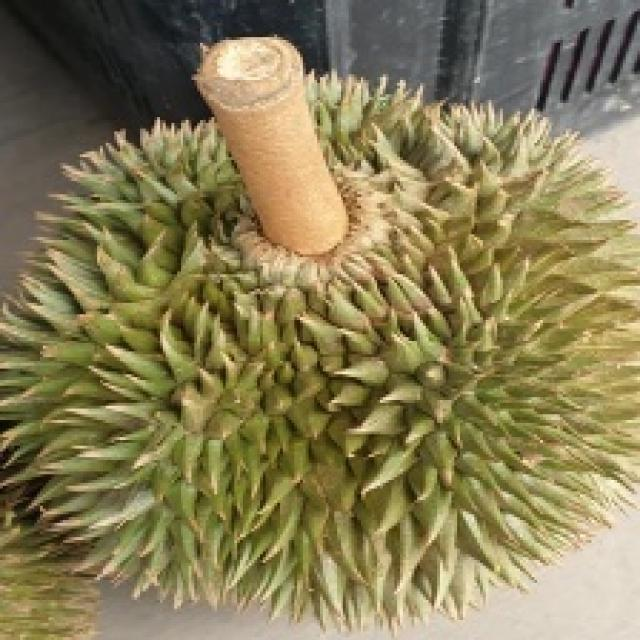d101: (17, 87, 618, 607)
